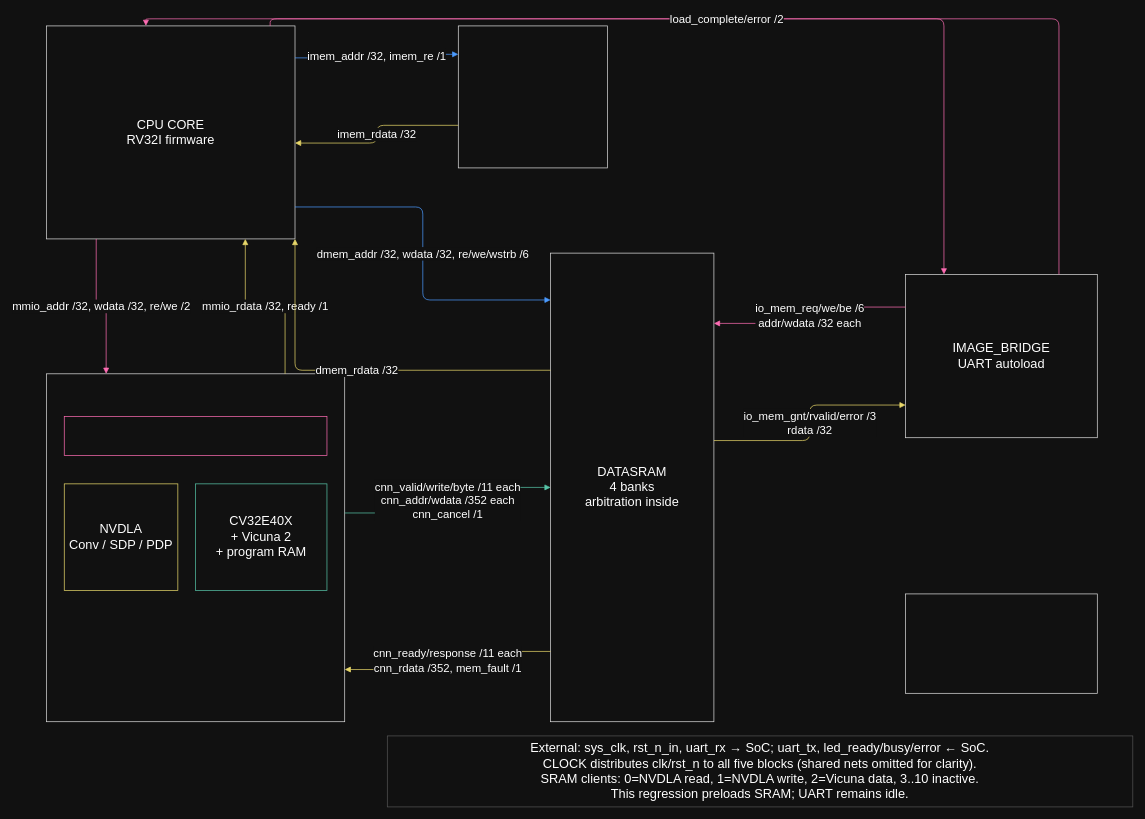
This 1145x819 diagram has some shape labels left out. Here are the shapes that lost their labels. From the top down, the centre of each, then its label:
At [532,96]: "IMEM Main CPU ROM".
At [195,435]: "Command registers".
At [1001,643]: "CLOCK clock / reset".
